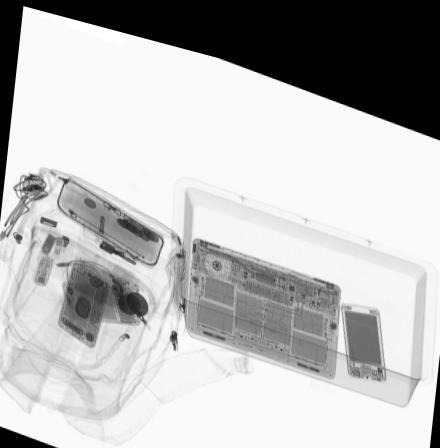Powerbank: (339, 283, 388, 359)
